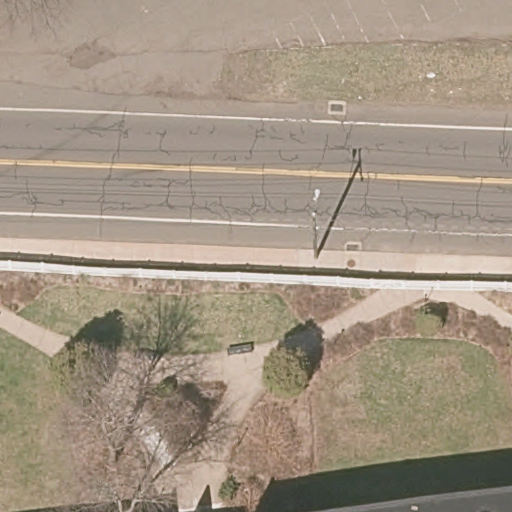DT: (308, 188, 321, 258)
